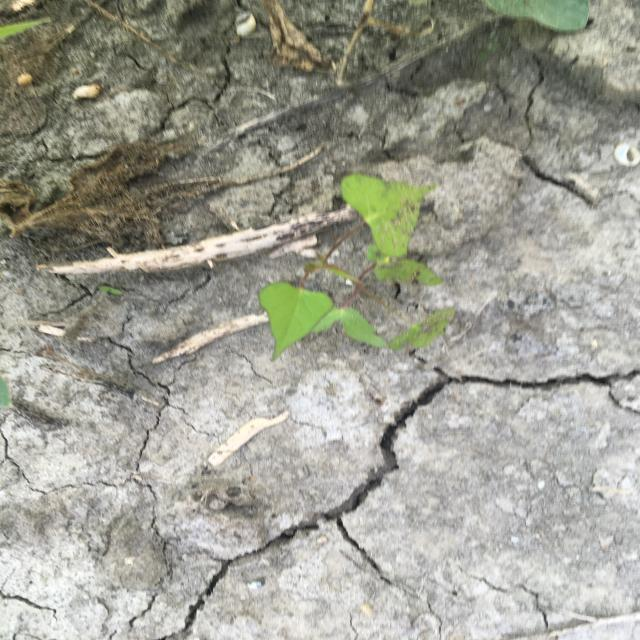MorningGlory: (256, 172, 458, 364)
